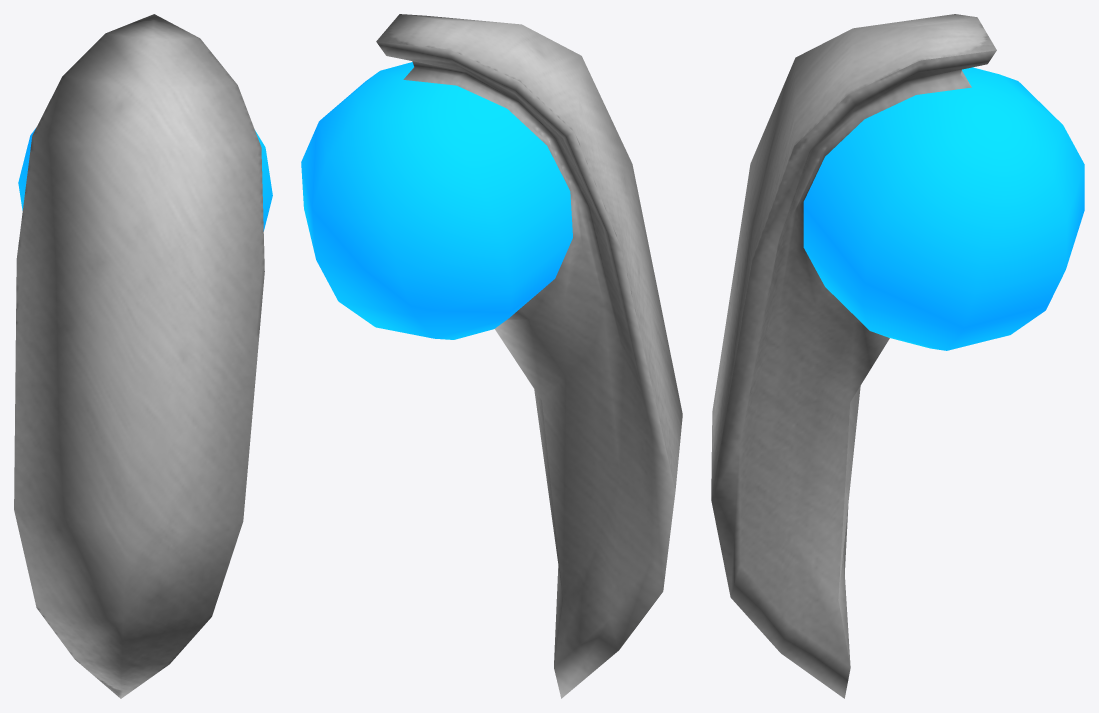
File: ElipPata4.fbx
3 renders of one model, left to right at view 1: azimuth 30°, elevation 25°; view 2: azimuth 150°, elevation 25°; view 3: azimuth 270°, elevation 25°, orthographic. The views are drawn at different scales.
Visible parts, largest first — view 1: Sphere.005; view 2: Sphere.005; view 3: Sphere.005.
Boxes of the visible parts, x1=… form: Sphere.005: x1=14, y1=14, x2=272, y2=698; Sphere.005: x1=301, y1=14, x2=682, y2=698; Sphere.005: x1=711, y1=14, x2=1084, y2=698.
Size of the model in its own units: 2.14 by 4.53 by 2.16.
